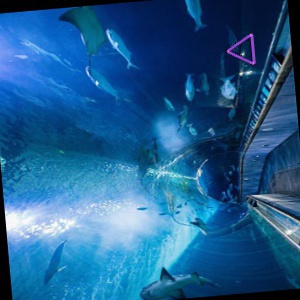triangle: (223, 31, 258, 68)
